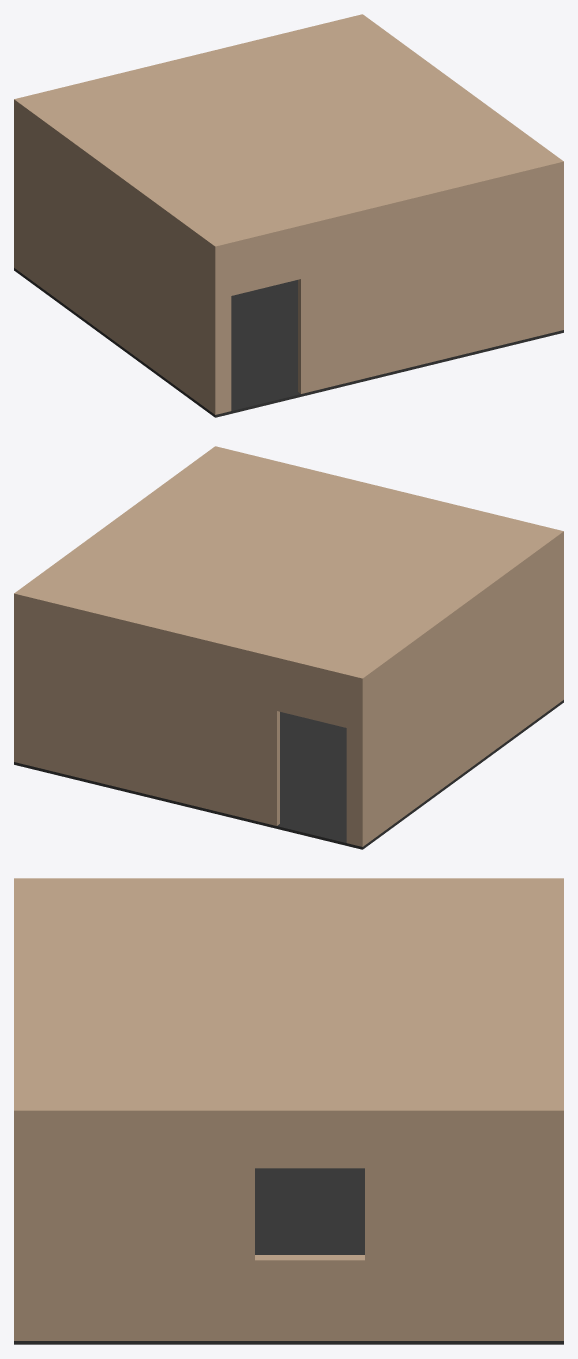
File: Room02.gltf
3 renders of one model, top to bottom at view 1: azimuth 30°, elevation 25°; view 2: azimuth 150°, elevation 25°; view 3: azimuth 270°, elevation 25°, orthographic. The views are drawn at different scales.
Visible parts, largest first — view 1: roof, wall2, wall, floor, wall3, Wall4-left; view 2: roof, wall3, wall, floor, wall2, Wall4-left; view 3: roof, Wall4-left, floor, wall2, wall3, wall.
Part boxes in pixels (x1=…): roof: x1=16, y1=15, x2=563, y2=248; wall2: x1=212, y1=159, x2=563, y2=414; wall: x1=17, y1=100, x2=215, y2=412; floor: x1=14, y1=268, x2=563, y2=417; wall3: x1=14, y1=14, x2=365, y2=269; Wall4-left: x1=358, y1=16, x2=560, y2=160; roof: x1=16, y1=446, x2=563, y2=678; wall3: x1=14, y1=591, x2=365, y2=846; wall: x1=361, y1=532, x2=560, y2=844; floor: x1=14, y1=700, x2=563, y2=849; wall2: x1=212, y1=446, x2=563, y2=701; Wall4-left: x1=23, y1=448, x2=219, y2=586; roof: x1=14, y1=878, x2=559, y2=1114; Wall4-left: x1=22, y1=1105, x2=555, y2=1340; floor: x1=14, y1=1168, x2=563, y2=1344; wall2: x1=14, y1=878, x2=22, y2=1340; wall3: x1=555, y1=878, x2=563, y2=1340; wall: x1=22, y1=878, x2=555, y2=881.
Bounding box in the file's own units: 130 × 61 × 130.
